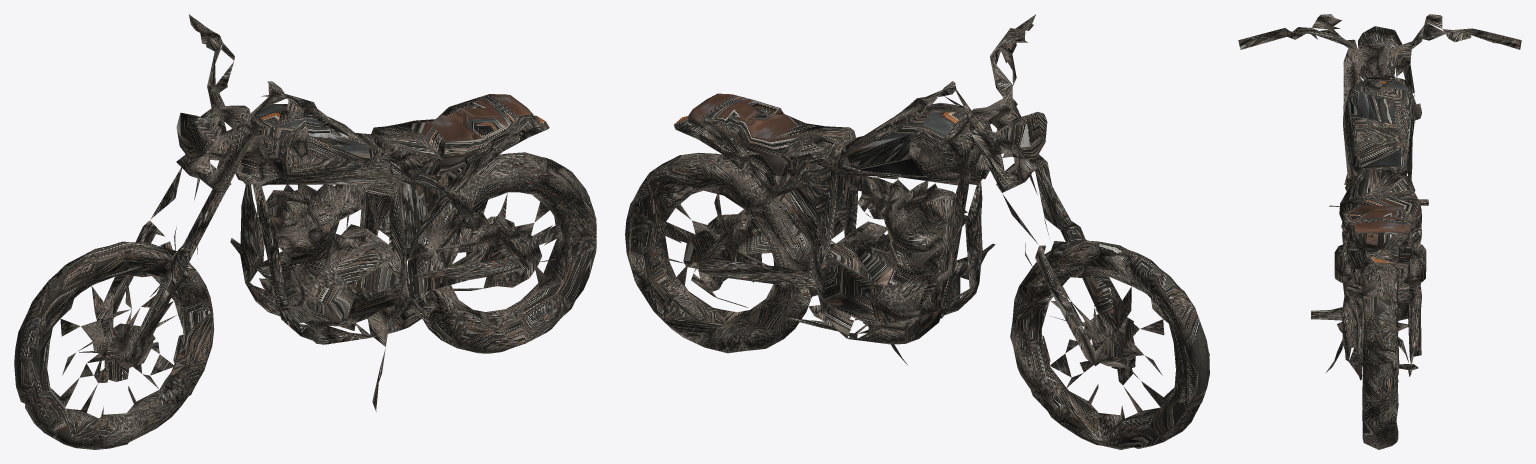
Rendered from motorcycle.glb.
3 renders of one model, left to right at view 1: azimuth 30°, elevation 25°; view 2: azimuth 150°, elevation 25°; view 3: azimuth 270°, elevation 25°, orthographic. The views are drawn at different scales.
Bounding box in the file's own units: 1.9 × 1.1 × 0.9021.
Materials: 1 (1 with a texture image).
